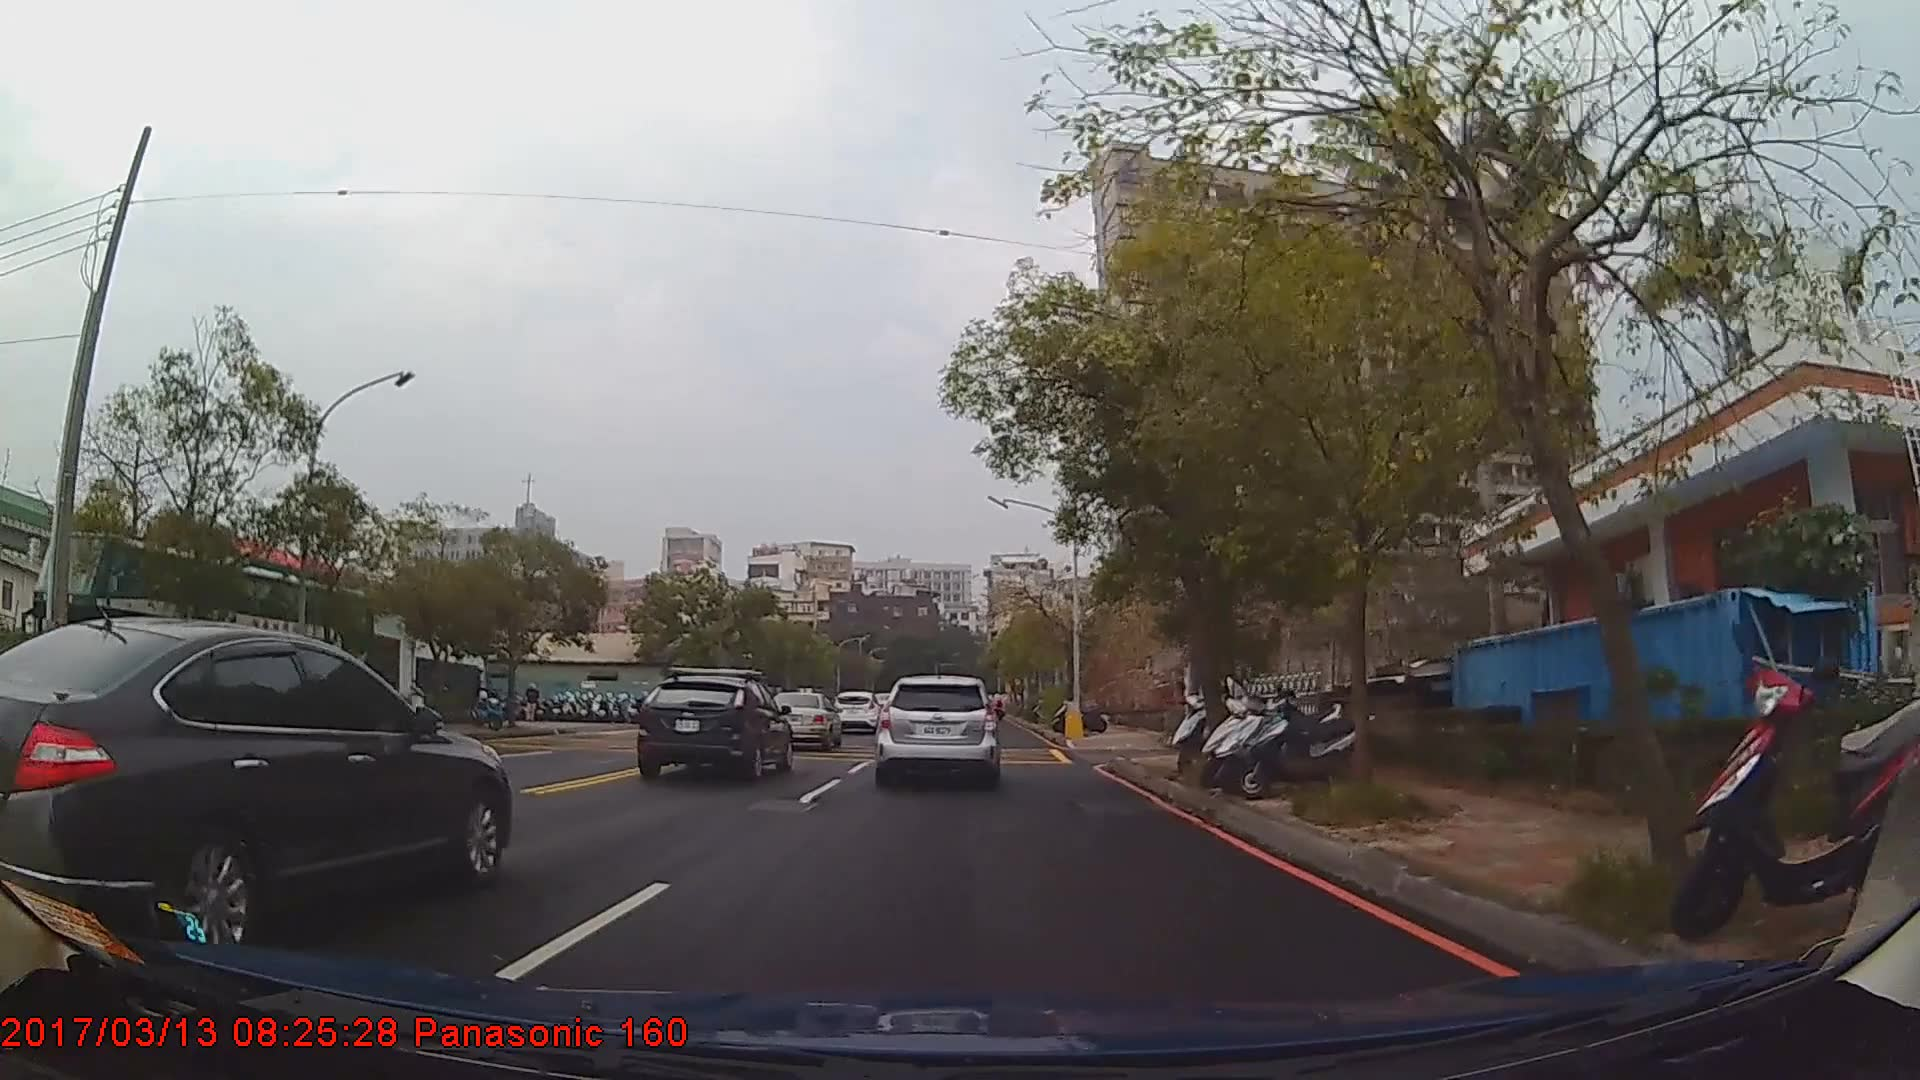vehicle: (0, 613, 512, 949), (13, 527, 371, 746), (634, 671, 794, 782), (878, 670, 1002, 789), (764, 688, 841, 748), (831, 690, 882, 735)
